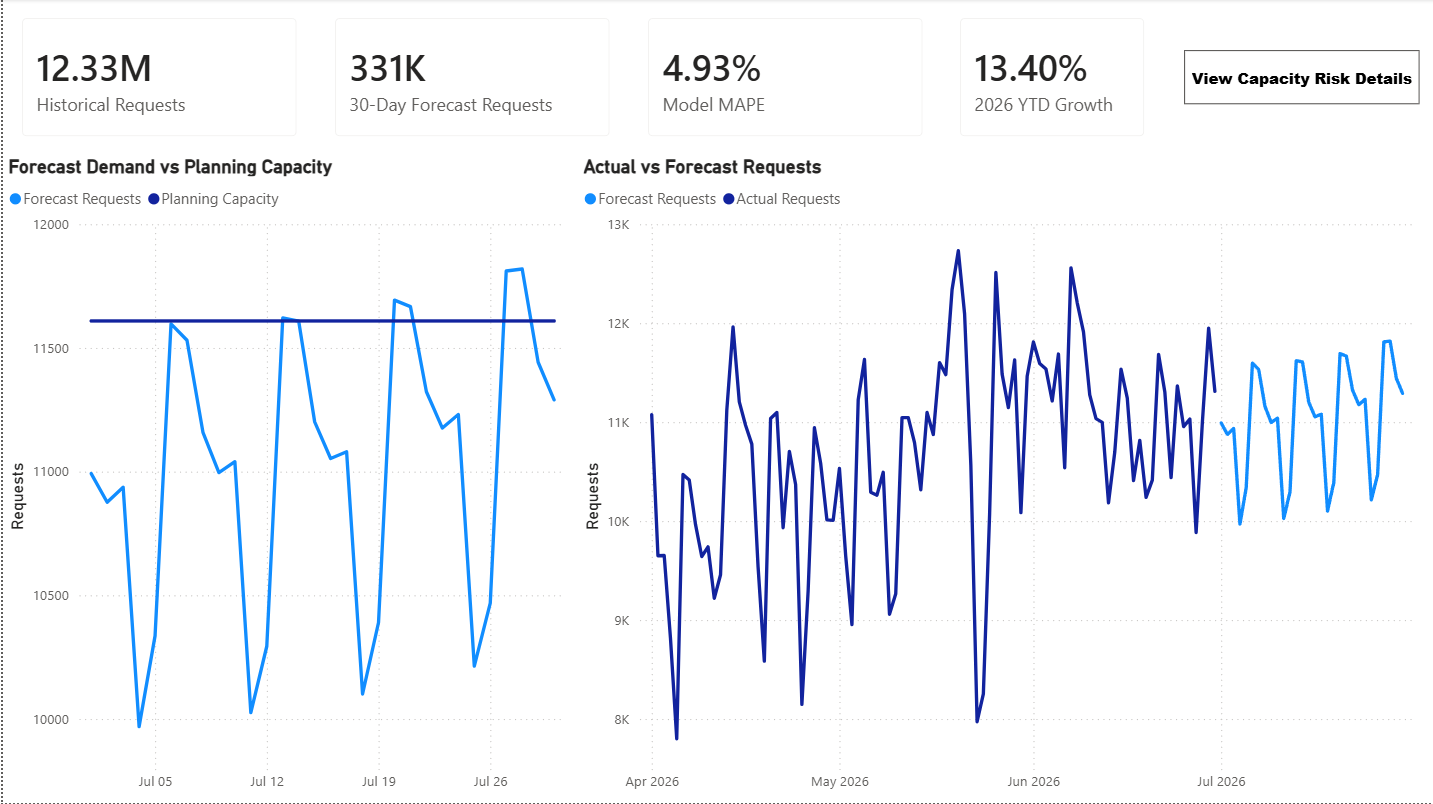

This screenshot's page, from the dashboard's own definition file:
{"tool":"powerbi","page":{"name":"Overview","canvas":[1280,720],"ordinal":0},"visuals":[{"type":"cardVisual","fields":{"Data":["project_kpis.Historical Requests"]},"box":[0,0,280.1,140.1],"z":0},{"type":"cardVisual","fields":{"Data":["project_kpis.30-Day Forecast Requests"]},"box":[280.1,0,280.1,140.1],"z":1000},{"type":"cardVisual","fields":{"Data":["project_kpis.Model MAPE Card"]},"box":[560.2,0,280.1,140.1],"z":2000},{"type":"cardVisual","fields":{"Data":["project_kpis.2026 YTD Growth"]},"box":[840.4,0,199.4,140.1],"z":3000},{"type":"lineChart","title":"Actual vs Forecast Requests","fields":{"Category":["date_dimension.date"],"Y":["project_kpis.Forecast Requests","project_kpis.Actual Requests"]},"box":[514.5,140.1,765.5,579.7],"z":4000},{"type":"lineChart","title":"Forecast Demand vs Planning Capacity","fields":{"Category":["capacity_risk_alerts.request_date"],"Y":["Sum(capacity_risk_alerts.forecast_requests)","Sum(capacity_risk_alerts.planning_capacity)"]},"box":[0,140.1,514.5,579.7],"z":5000},{"type":"actionButton","box":[1057.3,45.7,211.1,48.6],"z":6000}]}

Visuals, with their boxes in screenshot pixels (x1, y1, x2, y2), scaled from the page's 1280x720 canvas onto the 1433x804 screenshot:
cardVisual - project_kpis.Historical Requests: (0, 0, 314, 156)
cardVisual - project_kpis.30-Day Forecast Requests: (314, 0, 627, 156)
cardVisual - project_kpis.Model MAPE Card: (627, 0, 941, 156)
cardVisual - project_kpis.2026 YTD Growth: (941, 0, 1164, 156)
"Actual vs Forecast Requests" lineChart: (576, 156, 1432, 803)
"Forecast Demand vs Planning Capacity" lineChart: (0, 156, 576, 803)
actionButton: (1184, 51, 1420, 105)
